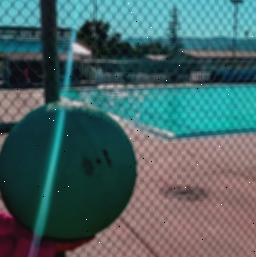algae: (0, 97, 141, 238)
